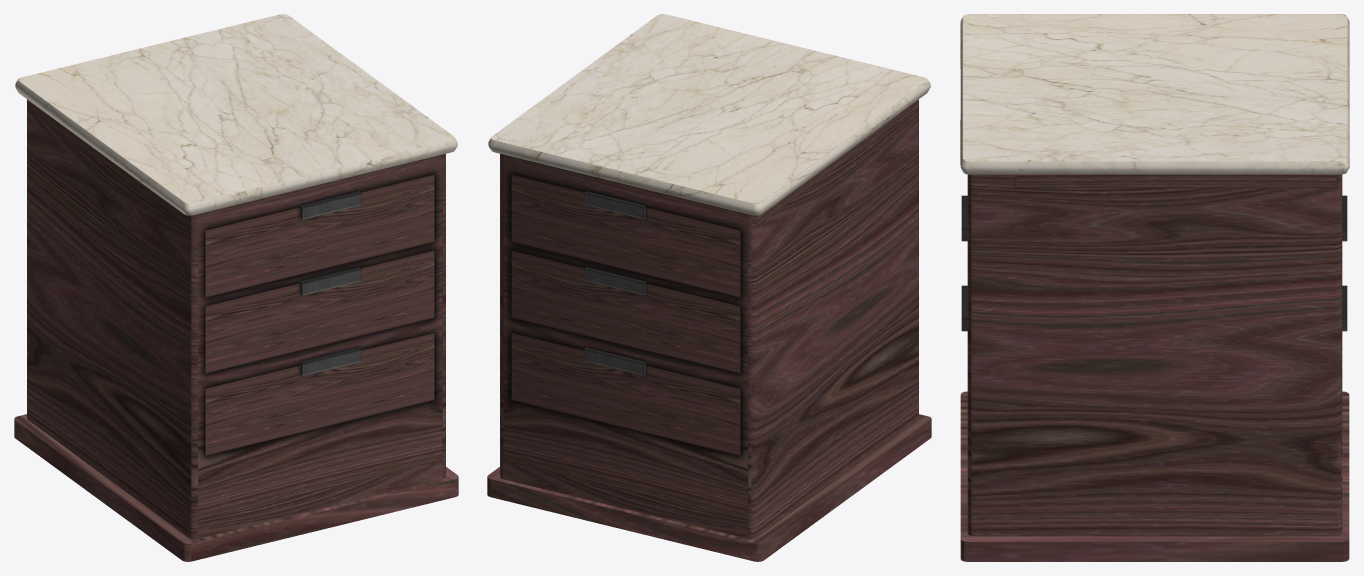
Rendered from Drawer.fbx.
3 renders of one model, left to right at view 1: azimuth 30°, elevation 25°; view 2: azimuth 150°, elevation 25°; view 3: azimuth 270°, elevation 25°, orthographic. The views are drawn at different scales.
Parts seen in each view (by area): view 1: Drawer; view 2: Drawer; view 3: Drawer.
Boxes of the visible parts, box(x1,y1,x2,y2) form: Drawer: box(14, 14, 458, 561); Drawer: box(487, 14, 931, 561); Drawer: box(960, 14, 1349, 561).
Bounding box in the file's own units: 0.3249 × 0.4019 × 0.3551.
